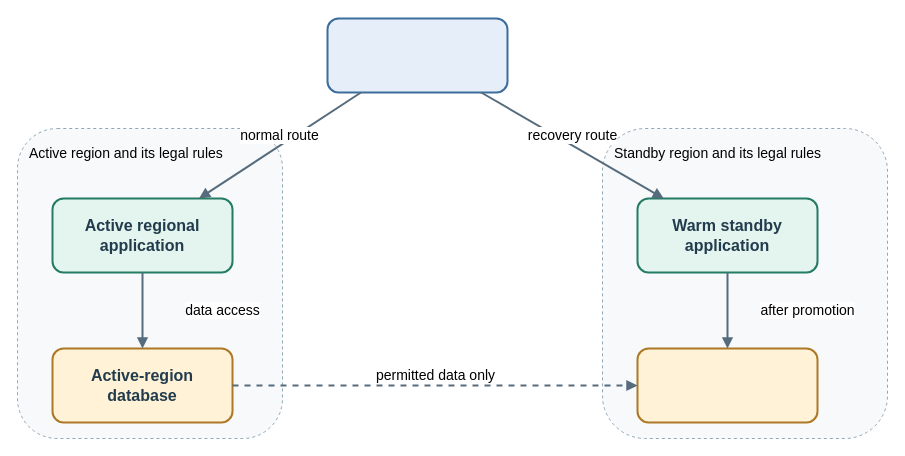
This 905x456 diagram has some shape labels left out. The centre of each missing label's shape, as x and y in pixels:
Global health- based routing: (417,55)
Standby-region database: (727,385)
